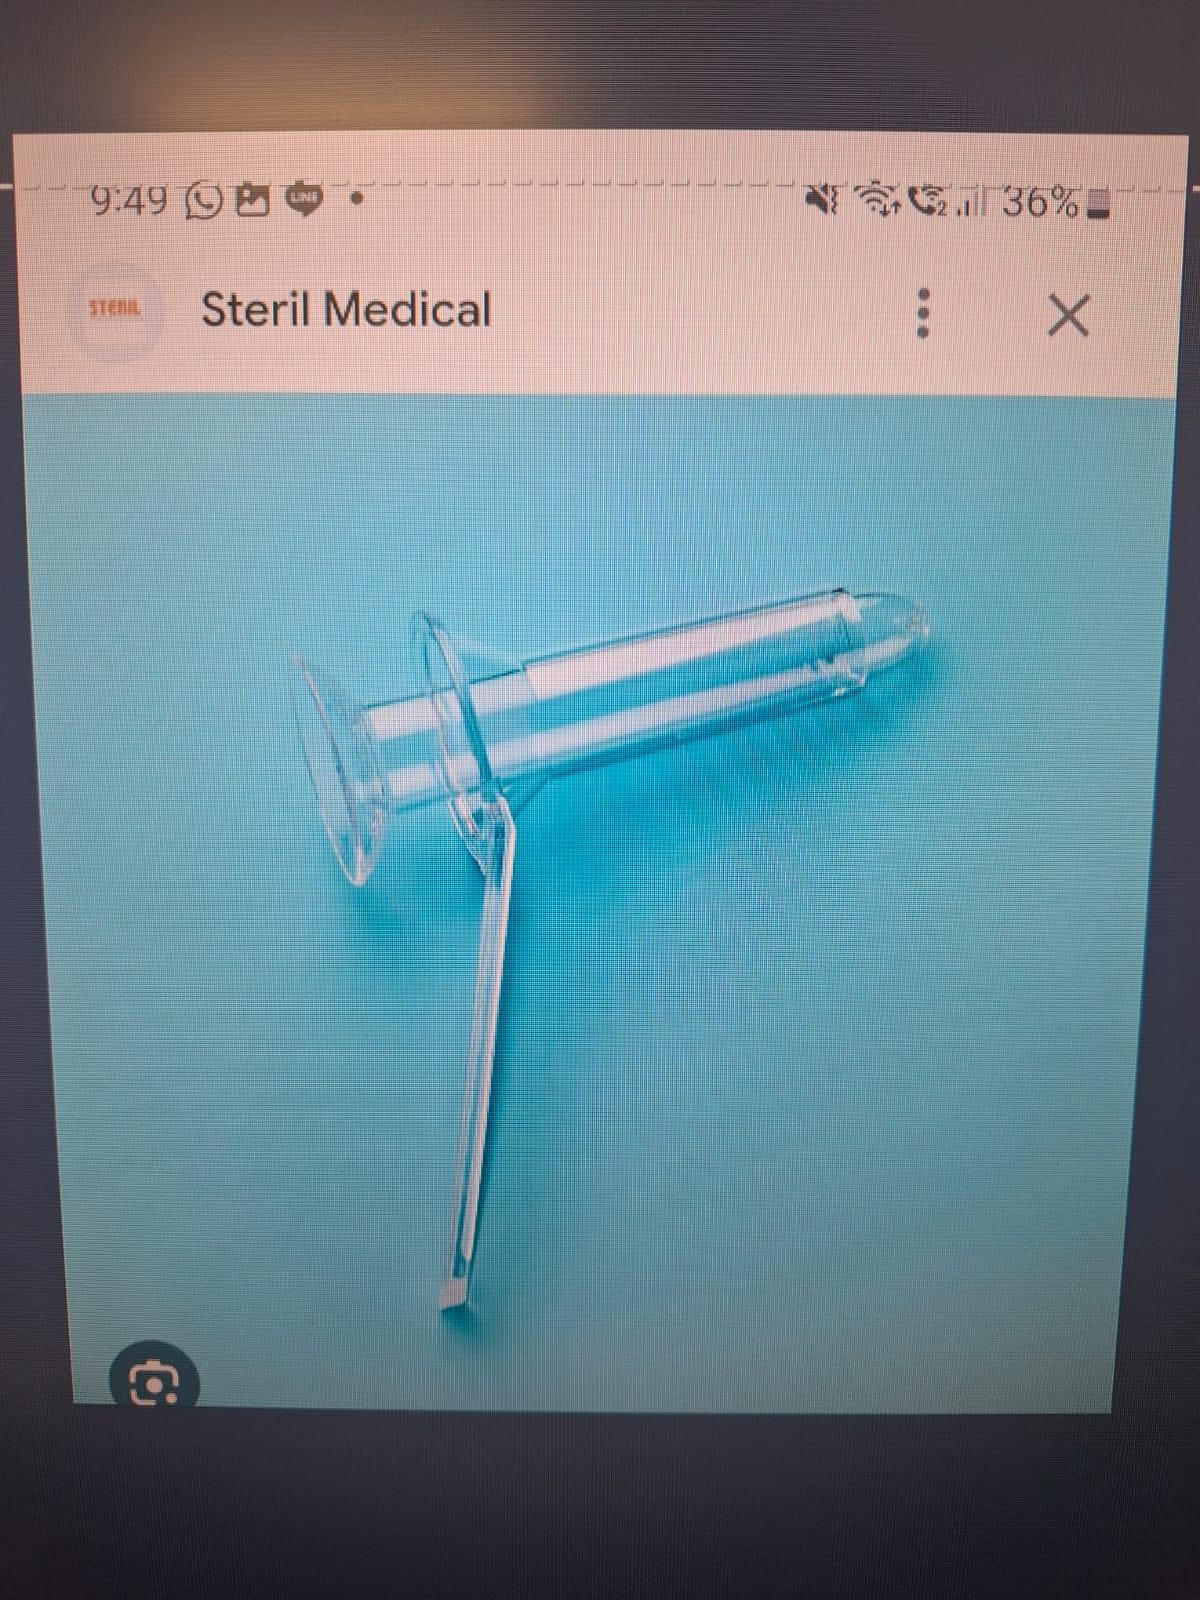Protoscope: (290, 570, 960, 1342)
